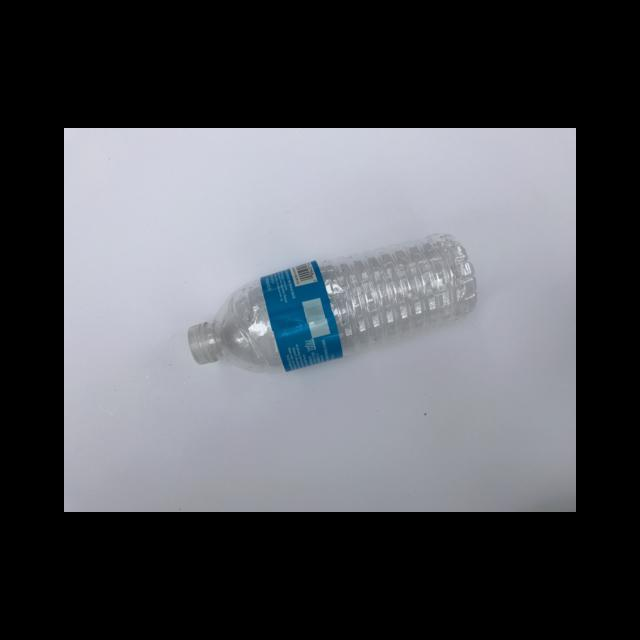plastic: (186, 234, 477, 371), (258, 260, 341, 371), (187, 319, 223, 363)
